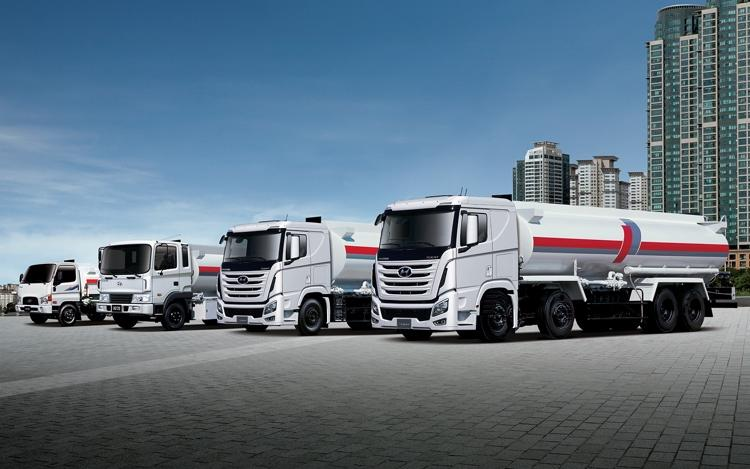truck: (370, 196, 730, 342), (216, 217, 383, 337), (95, 240, 225, 331), (14, 260, 107, 326)
